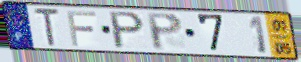1: (248, 15, 268, 56)
7: (195, 13, 226, 55)
F: (65, 9, 98, 48)
P: (144, 12, 185, 52), (108, 10, 147, 51)
T: (32, 6, 62, 48)
